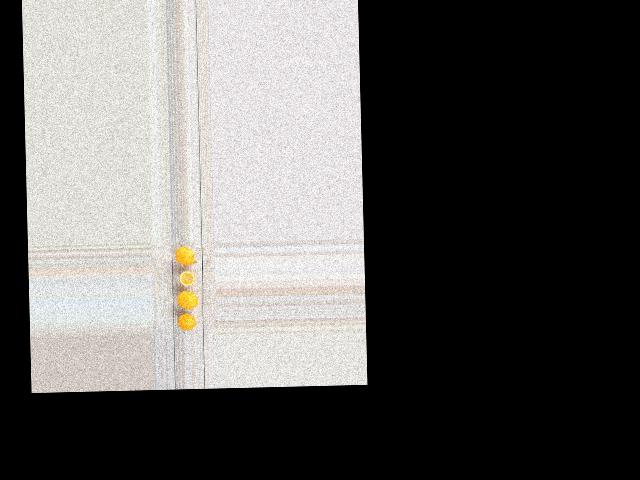lemon: (174, 246, 198, 265)
